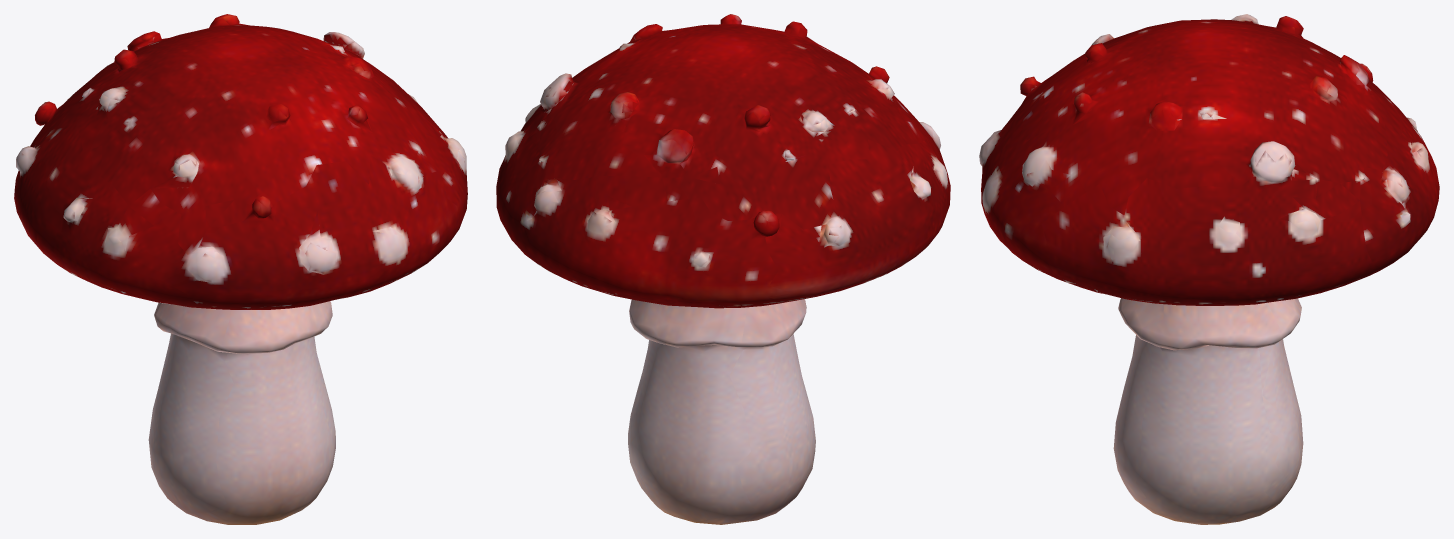
Rendered from mushroom.glb.
3 views of the same model, side by side, from view 1: azimuth 30°, elevation 25°; view 2: azimuth 150°, elevation 25°; view 3: azimuth 270°, elevation 25° (orthographic).
Size of the model in its own units: 0.897 by 1 by 0.9022.
Materials: 1 (1 with a texture image).
